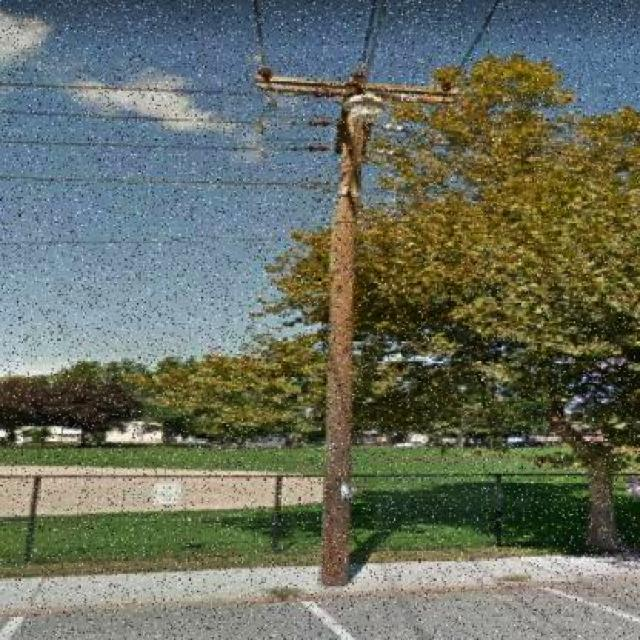crossarm: (252, 52, 460, 105)
pole: (320, 65, 385, 592)
wire: (5, 82, 318, 106), (3, 109, 331, 129), (5, 229, 289, 252), (3, 172, 326, 188), (3, 140, 331, 155), (451, 0, 503, 88), (245, 0, 271, 83), (362, 3, 377, 65)
